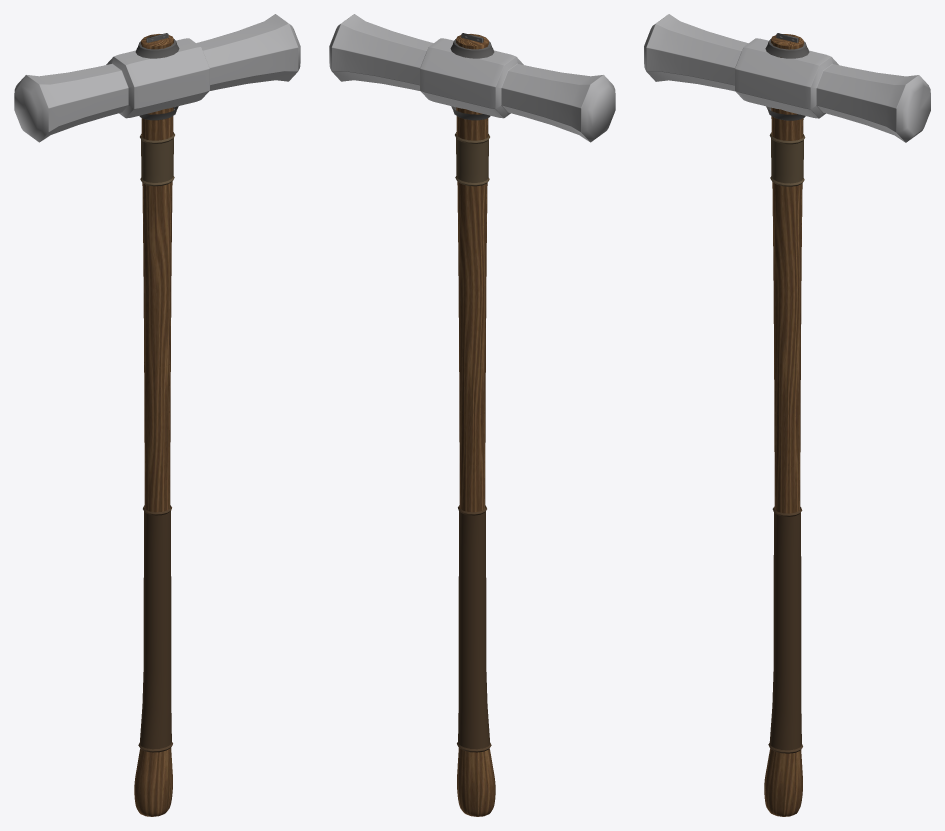
Rendered from gear_frontier_sledge.glb.
3 renders of one model, left to right at view 1: azimuth 30°, elevation 25°; view 2: azimuth 150°, elevation 25°; view 3: azimuth 330°, elevation 25°, orthographic.
Parts seen in each view (by area): view 1: gear_frontier_sledge; view 2: gear_frontier_sledge; view 3: gear_frontier_sledge.
Boxes of the visible parts, x1,y1,x2,y2 form: gear_frontier_sledge: [14, 14, 300, 816]; gear_frontier_sledge: [329, 14, 615, 816]; gear_frontier_sledge: [644, 14, 930, 816].
Size of the model in its own units: 0.467 by 1.32 by 0.0986.
5 materials, 1 textured.
